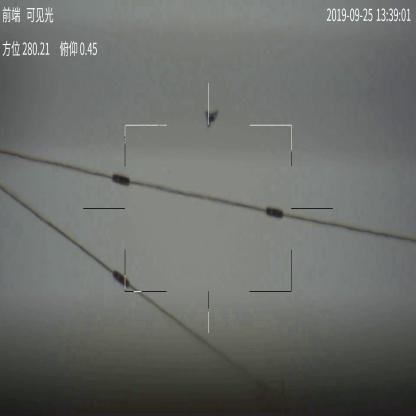uav: (204, 108, 217, 130)
